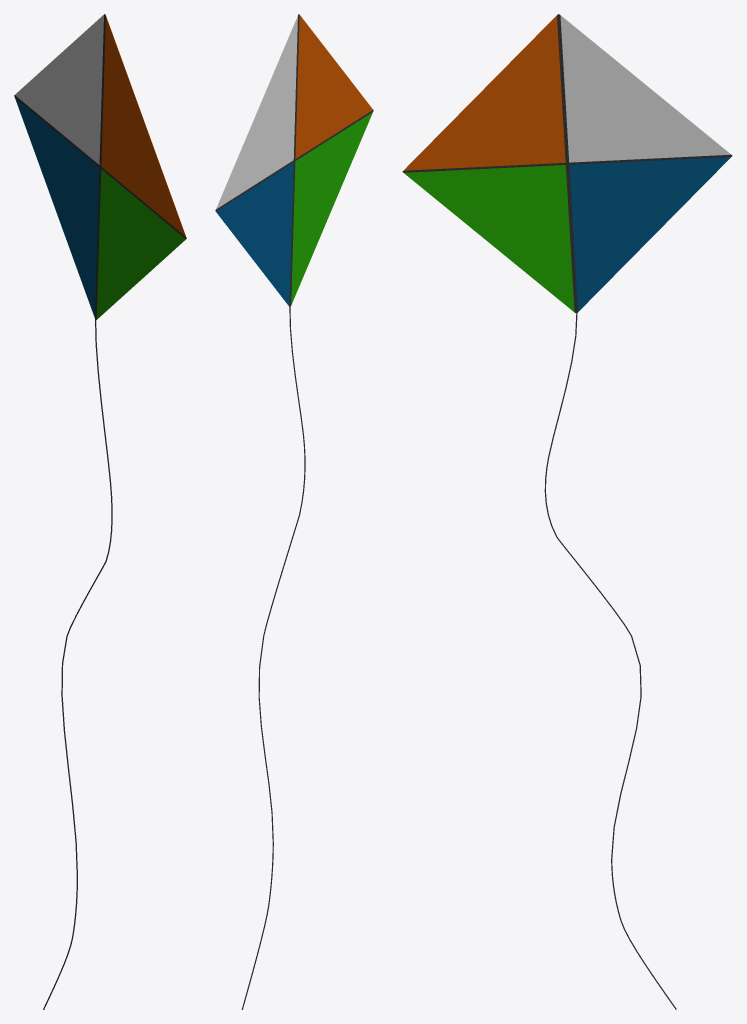
File: Kite_animation.fbx
The picture shows the model from 3 angles, left to right: view 1: azimuth 30°, elevation 25°; view 2: azimuth 150°, elevation 25°; view 3: azimuth 270°, elevation 25°; orthographic projection. The views are drawn at different scales.
Visible parts, largest first — view 1: Object001; view 2: Object001; view 3: Object001.
Part boxes in pixels (box(x1,y1,x2,y2)): Object001: box(14, 14, 186, 1009); Object001: box(215, 14, 373, 1009); Object001: box(402, 14, 732, 1009).
Size of the model in its own units: 0.107 by 93.32 by 28.06.
